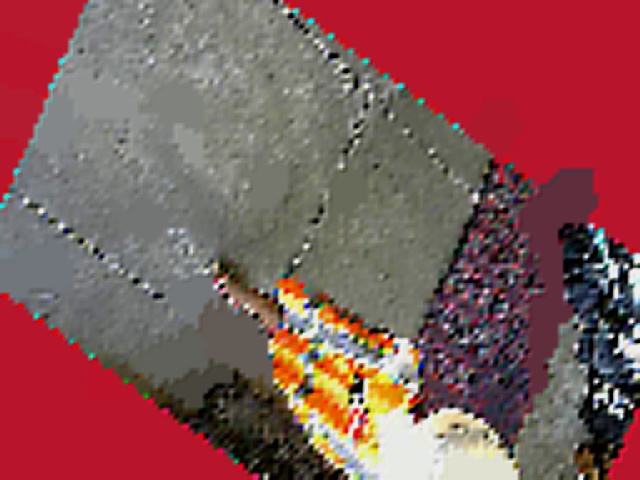eight: (431, 457, 486, 479)
